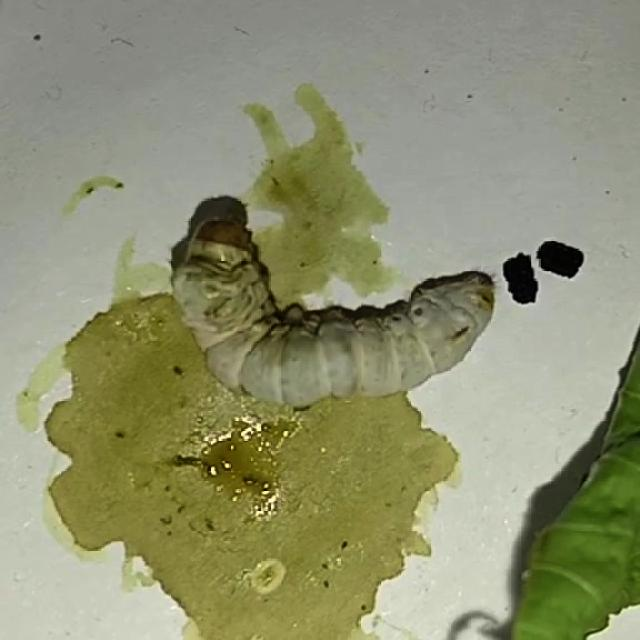Grasserie: (167, 195, 507, 425)
